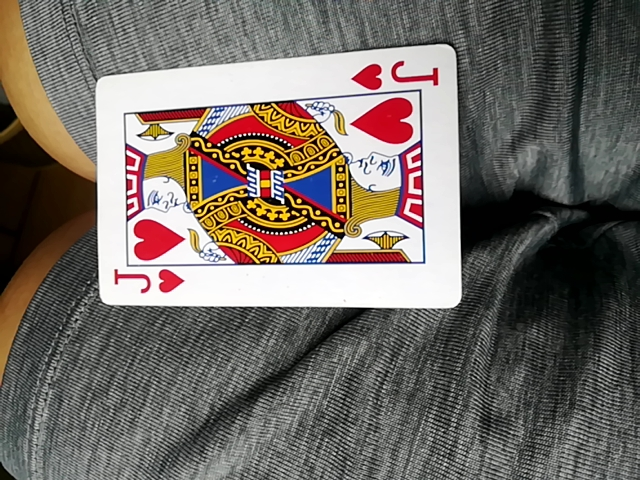hx j: (98, 44, 461, 309)
